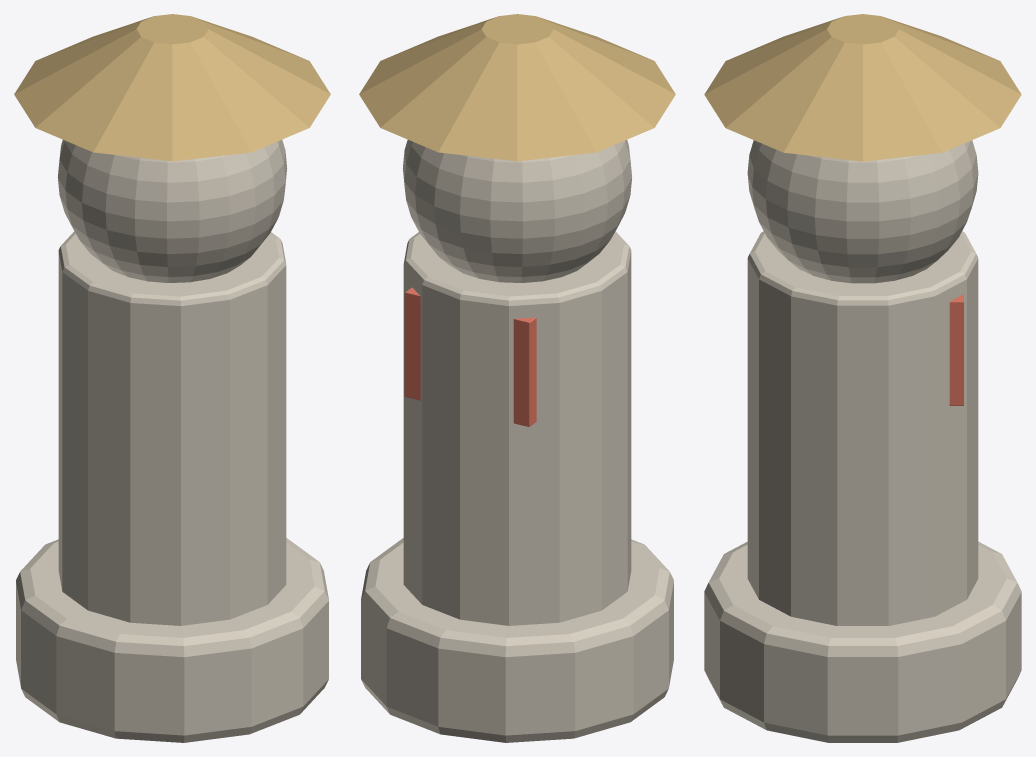
The model's file is jizo.glb.
3 renders of one model, left to right at view 1: azimuth 30°, elevation 25°; view 2: azimuth 150°, elevation 25°; view 3: azimuth 270°, elevation 25°, orthographic.
Parts seen in each view (by area): view 1: jizo; view 2: jizo; view 3: jizo.
Part boxes in pixels (left/top/right/bottom): jizo: left=14, top=14, right=330, bottom=742; jizo: left=359, top=14, right=675, bottom=742; jizo: left=704, top=14, right=1021, bottom=742.
Bounding box in the file's own units: 0.44 × 1 × 0.44.
